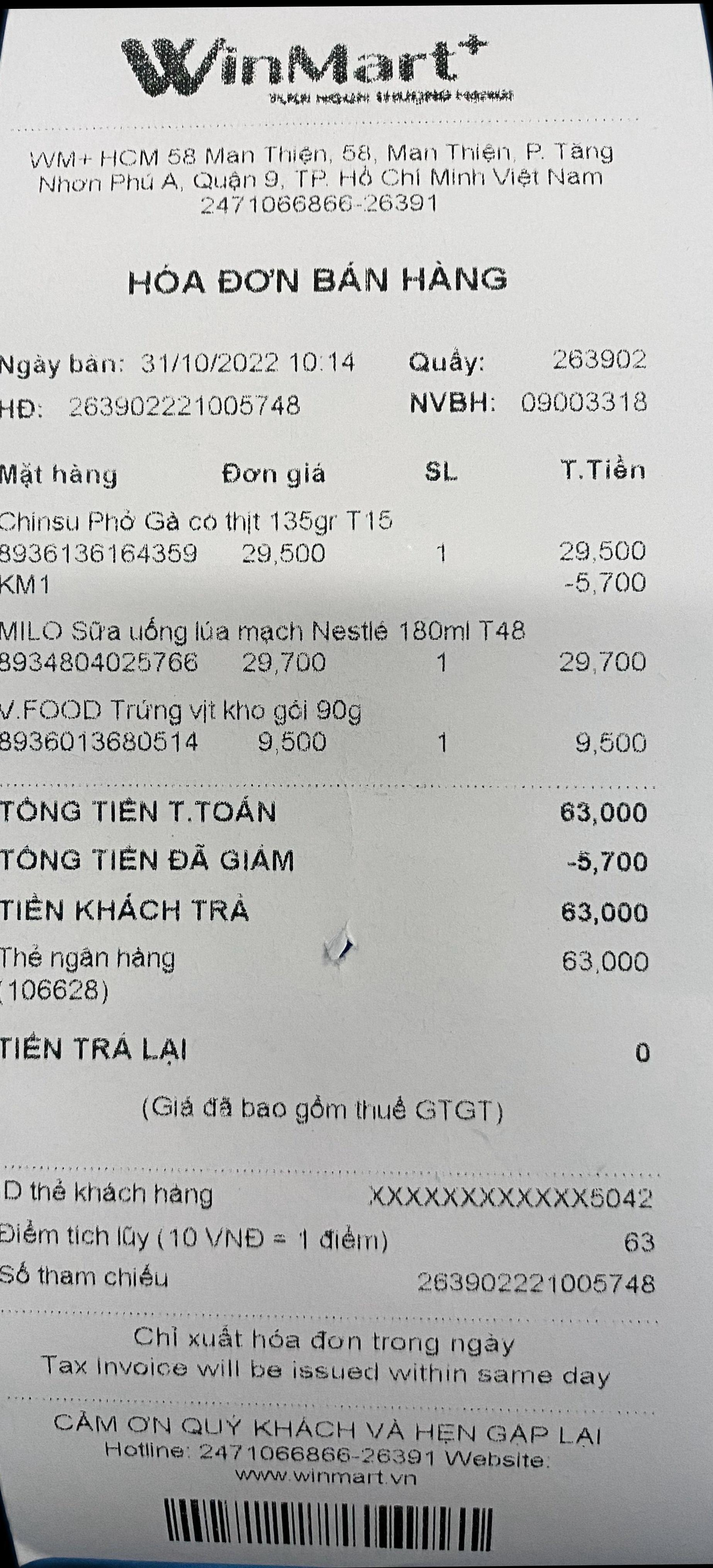Date: (124, 343, 286, 387)
Store_Name: (99, 20, 539, 111)
Total_Amount: (0, 780, 678, 839)
